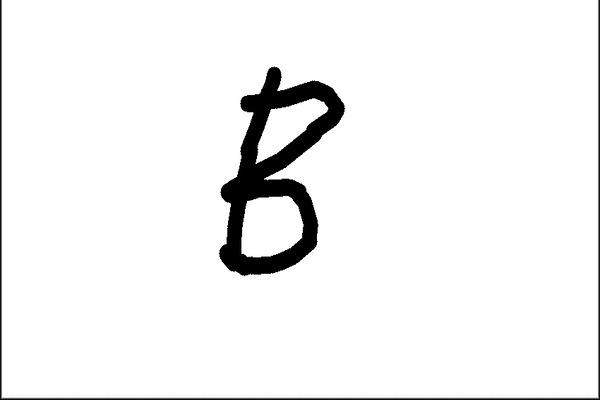B: (208, 57, 354, 287)
